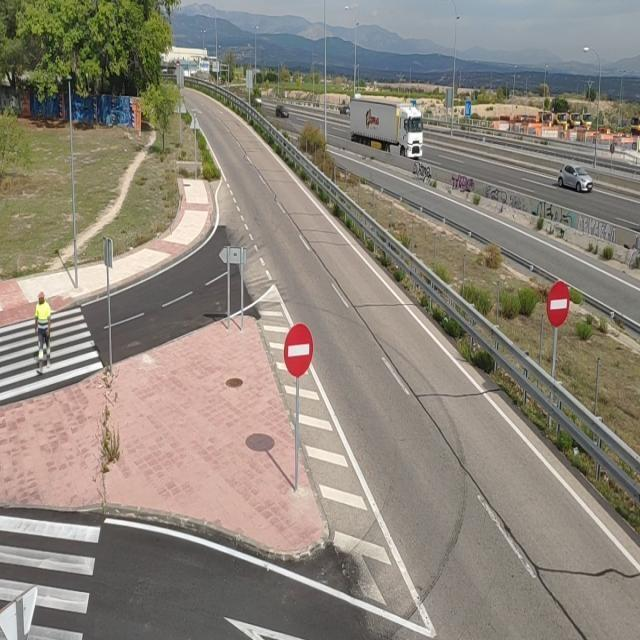Car: (557, 164, 593, 193), (274, 104, 290, 118), (339, 105, 350, 115)
Truck: (349, 96, 425, 161)
